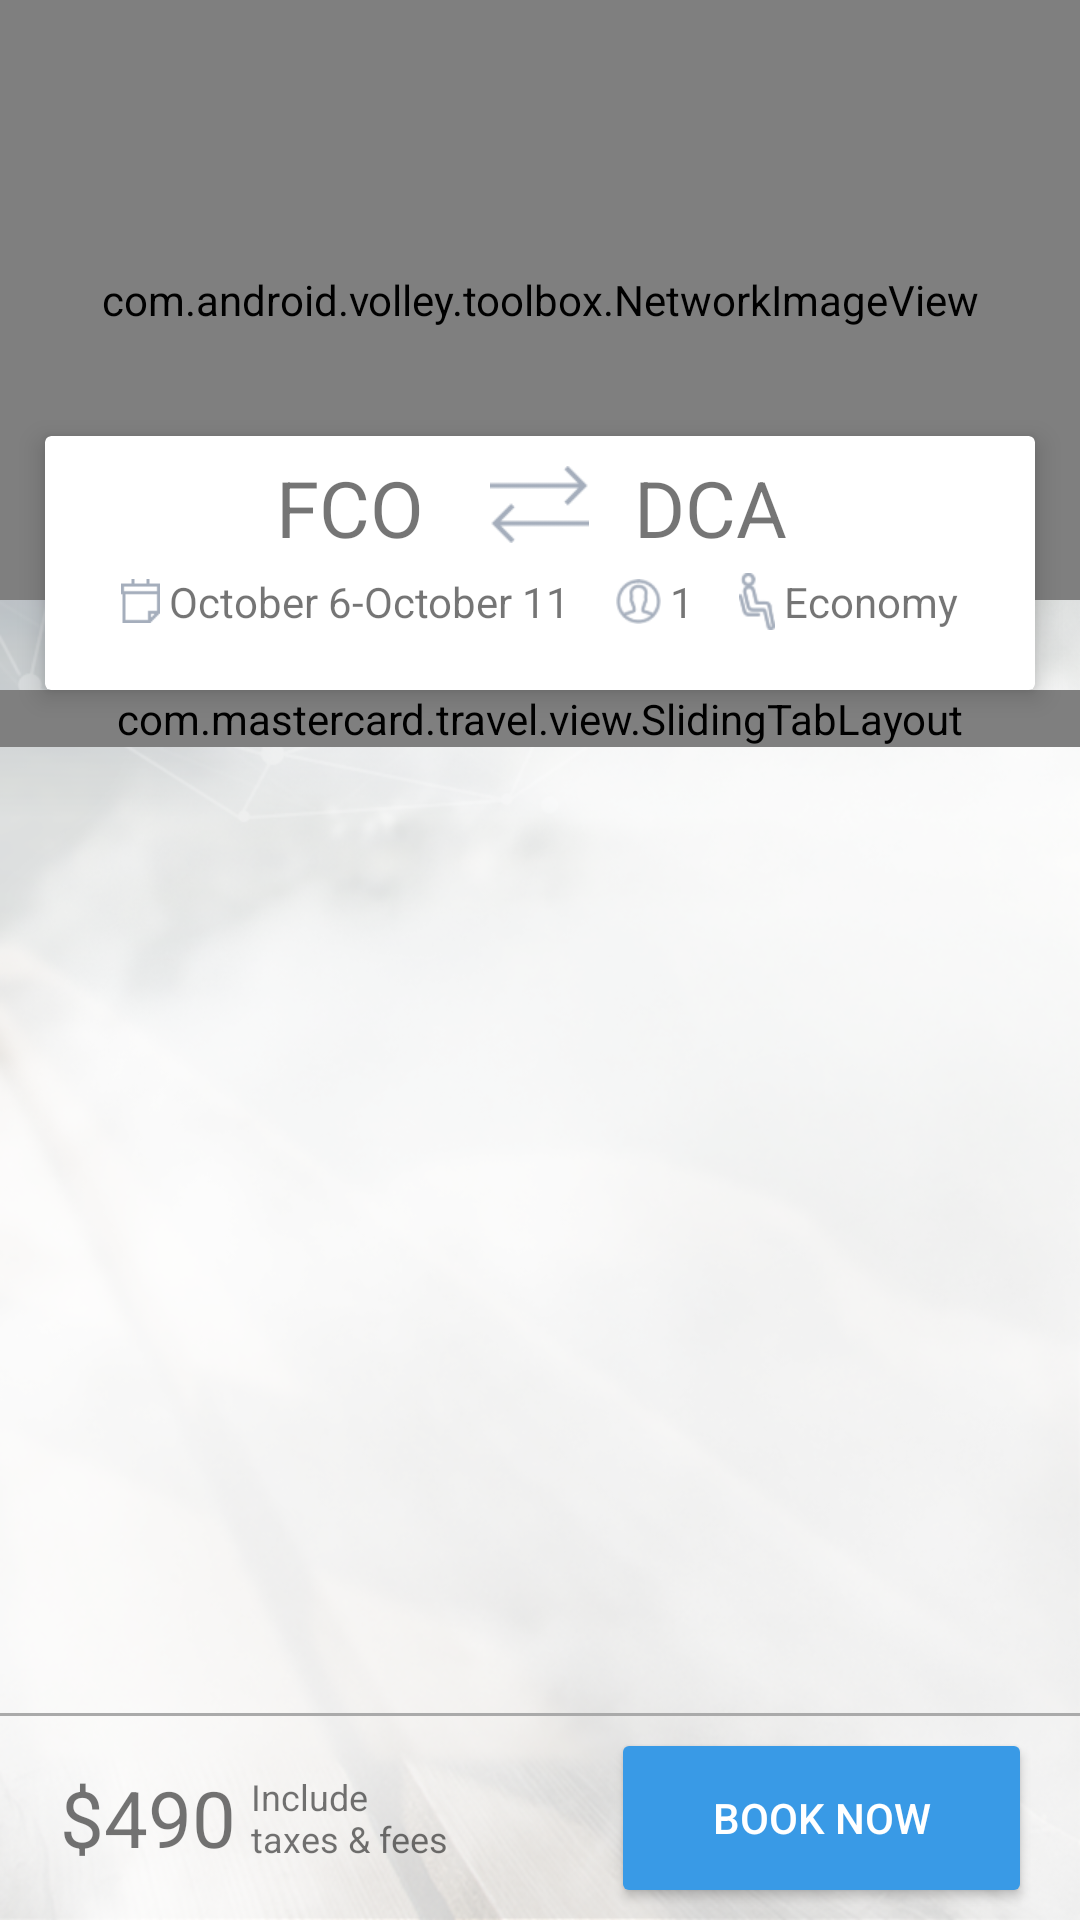

Icon bounding boxes for this 1080 x 1920 phone screenshot, format (x1, y1, x2, y2):
arrow: (490, 466, 589, 543)
